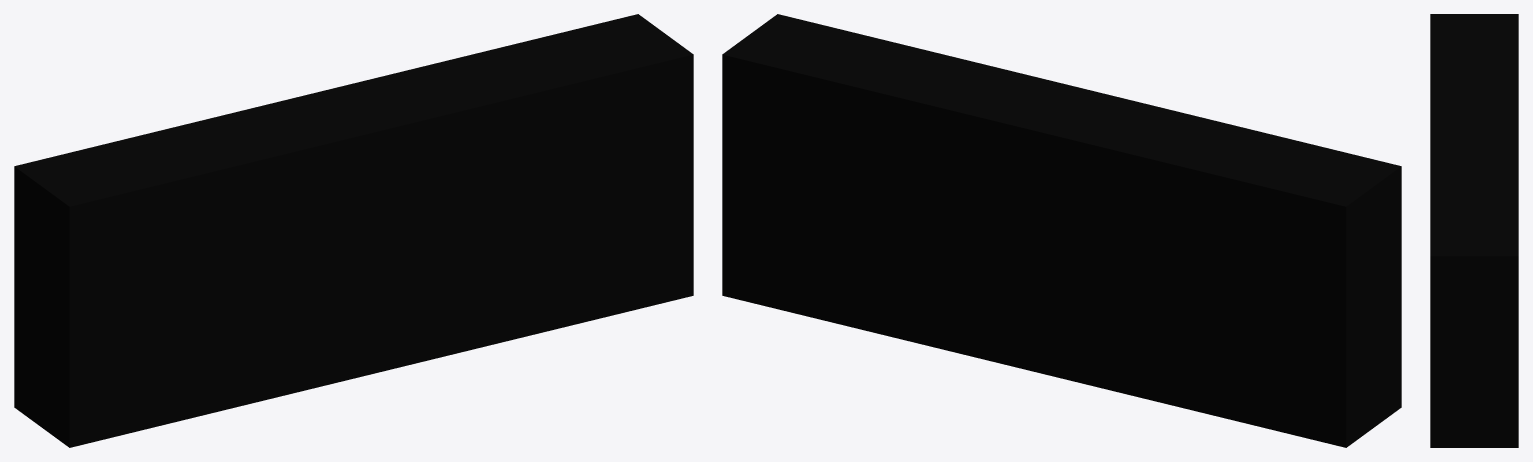
The model's file is CoalBlock1.fbx.
3 views of the same model, side by side, from view 1: azimuth 30°, elevation 25°; view 2: azimuth 150°, elevation 25°; view 3: azimuth 270°, elevation 25° (orthographic). The views are drawn at different scales.
Visible parts, largest first — view 1: CoalGet1st; view 2: CoalGet1st; view 3: CoalGet1st.
Boxes of the visible parts, x1,y1,x2,y2 form: CoalGet1st: [14, 14, 693, 447]; CoalGet1st: [722, 14, 1401, 447]; CoalGet1st: [1430, 14, 1518, 447].
Bounding box in the file's own units: 650 × 240 × 100.
